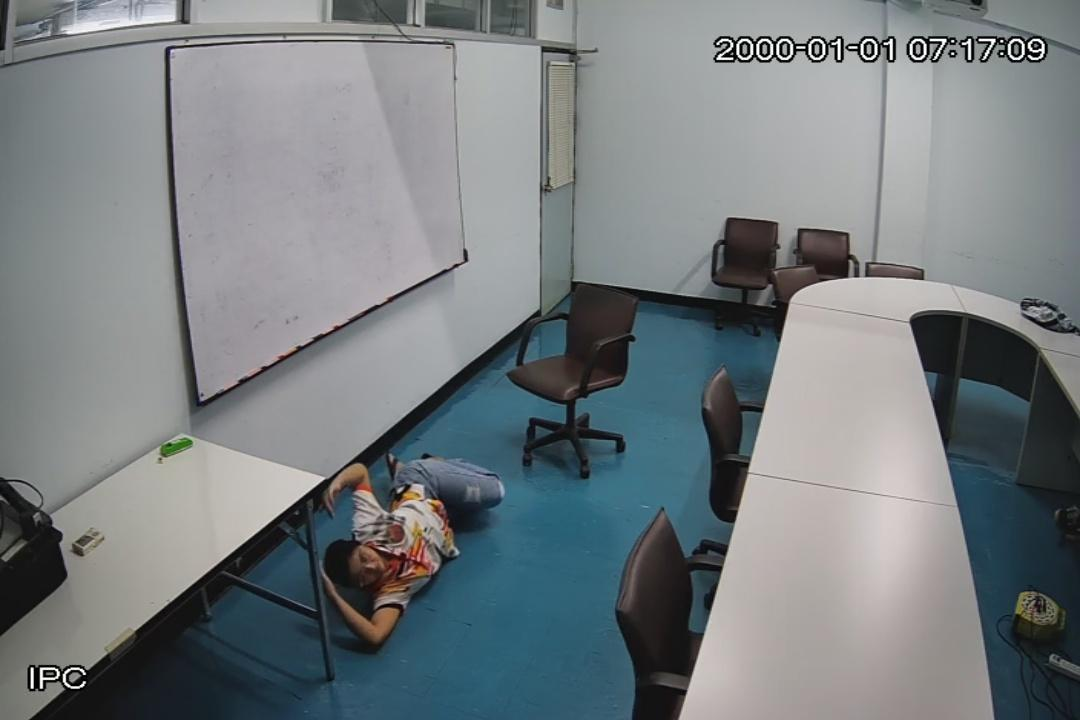fall: (318, 452, 503, 641)
